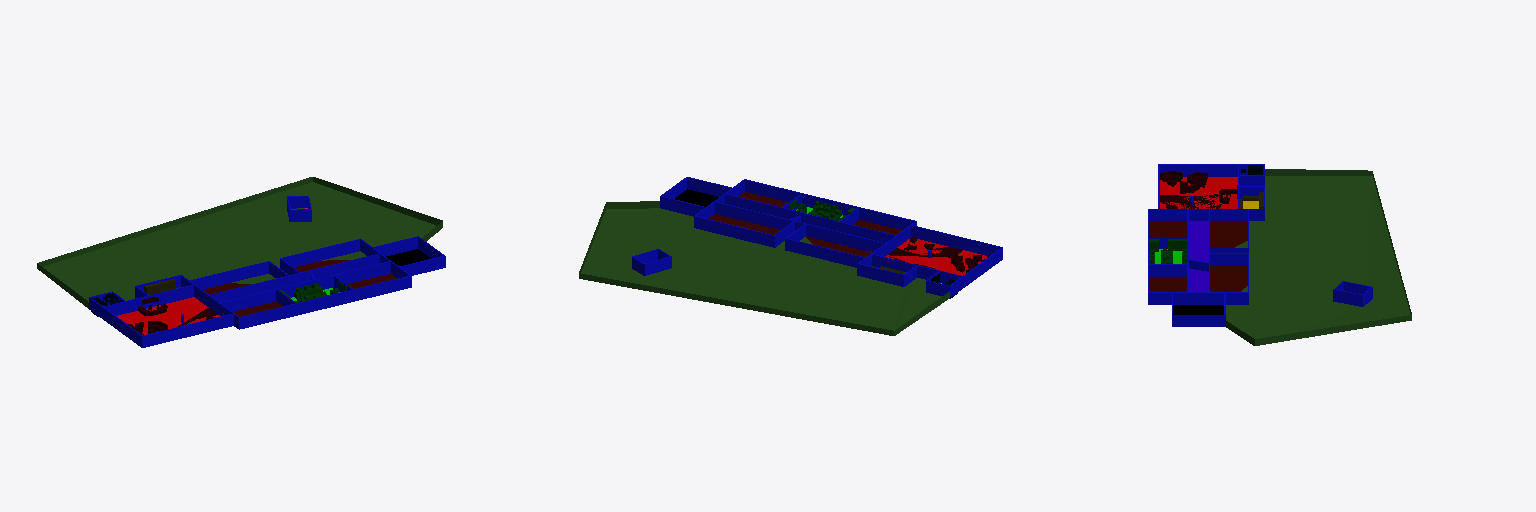
Rendered from classe.obj.
3 renders of one model, left to right at view 1: azimuth 30°, elevation 25°; view 2: azimuth 150°, elevation 25°; view 3: azimuth 270°, elevation 25°, orthographic.
Visible parts, largest first — view 1: vert, Cube.015, Cube.013, Cube.012, solHall, Cube.001, Cube, Cube.017, Cube.020, Cube.003; view 2: vert, Cube.013, Cube.012, Cube.015, solHall, Cube.001, Cube.020, Cube.017, Cube, Cube.010, Cube.003; view 3: vert, Cube.014, solHall, sollVest.001, sollVest.005, sollVest.006, Cube.002, Cube.003, Cube.030, sollVest.002, sollVest.004.
Part boxes in pixels (x1,y1,x2,y2): vert: (37,177,442,308); Cube.015: (240,276,410,328); Cube.013: (210,253,379,301); Cube.012: (220,261,390,311); solHall: (117,297,220,334); Cube.001: (143,314,233,347); Cube: (103,285,193,315); Cube.017: (189,261,268,289); Cube.020: (281,239,359,266); Cube.003: (102,307,142,347); vert: (579,201,949,335); Cube.013: (715,202,884,251); Cube.012: (725,194,895,242); Cube.015: (745,179,914,229); solHall: (885,239,986,275); Cube.001: (911,225,1001,255); Cube.020: (695,216,773,247); Cube.017: (786,238,865,267); Cube: (872,254,961,283); Cube.010: (857,263,904,286); Cube.003: (962,247,1002,287); vert: (1226,169,1411,345); Cube.014: (1148,292,1248,304); solHall: (1160,177,1237,208); sollVest.001: (1189,221,1208,291); sollVest.005: (1210,221,1247,247); sollVest.006: (1210,266,1247,291); Cube.002: (1158,209,1238,220); Cube.003: (1158,164,1238,176); Cube.030: (1173,315,1223,326); sollVest.002: (1149,221,1186,236); sollVest.004: (1149,277,1186,291).
Size of the model in its own units: 305 by 12.04 by 200.